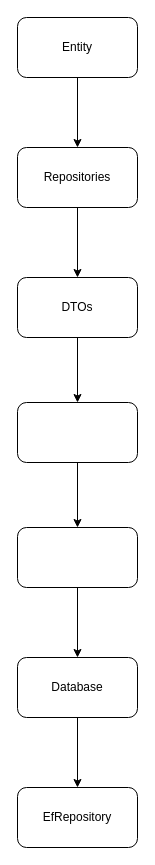
Some shapes in this 155 by 865 pixel diagram are drawn without their labels. The centre of each missing label's shape, as x and y in pixels:
"Interfaces" goes at point 77,432.
"UseCases" goes at point 77,557.
